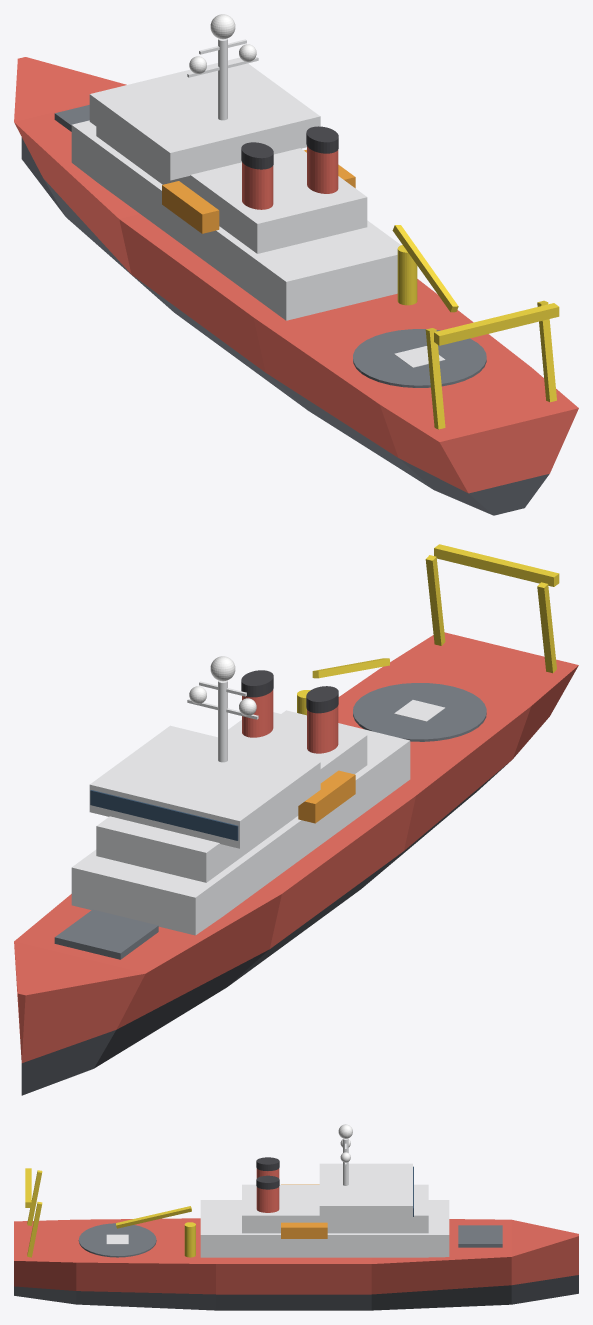
Rendered from polar_research_vessel.glb.
3 views of the same model, one above another, from view 1: azimuth 30°, elevation 25°; view 2: azimuth 150°, elevation 25°; view 3: azimuth 270°, elevation 25° (orthographic). The views are drawn at different scales.
Visible parts, largest first — view 1: Hull_Upper, Cube, Cube.002, Cube.001, Hull_Lower, Cylinder.006, Cube.010, Cube.006, Cylinder, Cylinder.002, Cube.008, Cube.011 (+5 smaller); view 2: Hull_Upper, Cube, Cube.002, Cube.001, Hull_Lower, Cylinder.006, Cube.013, Cube.003, Cube.010, Cube.006, Cylinder, Cylinder.002 (+6 smaller); view 3: Hull_Upper, Hull_Lower, Cube, Cube.002, Cube.001, Cylinder.006, Cube.013, Cube.007, Cylinder.002, Cube.011, Cylinder.005, Cube.009 (+4 smaller).
Boxes of the visible parts, x1,y1,x2,y2 form: Hull_Upper: (14, 57, 578, 493); Cube: (71, 120, 400, 320); Cube.002: (89, 57, 320, 180); Cube.001: (96, 127, 367, 253); Hull_Lower: (21, 137, 549, 515); Cylinder.006: (353, 329, 486, 387); Cube.010: (434, 303, 559, 345); Cube.006: (162, 181, 219, 233); Cylinder: (242, 162, 273, 209); Cylinder.002: (307, 146, 338, 193); Cube.008: (425, 328, 445, 429); Cube.011: (392, 225, 458, 312); Hull_Upper: (14, 632, 578, 1062); Cube: (71, 710, 410, 935); Cube.002: (89, 725, 320, 848); Cube.001: (96, 712, 367, 882); Hull_Lower: (21, 761, 510, 1095); Cylinder.006: (353, 683, 486, 741); Cube.013: (54, 909, 158, 959); Cube.003: (90, 790, 238, 840); Cube.010: (434, 544, 559, 586); Cube.006: (298, 770, 355, 823); Cylinder: (307, 706, 338, 753); Cylinder.002: (242, 690, 273, 737); Hull_Upper: (14, 1218, 578, 1294); Hull_Lower: (14, 1275, 578, 1310); Cube: (200, 1200, 449, 1257); Cube.002: (319, 1163, 412, 1221); Cube.001: (242, 1184, 428, 1233); Cylinder.006: (78, 1223, 156, 1257); Cube.013: (458, 1225, 502, 1247); Cube.007: (281, 1222, 327, 1238); Cylinder.002: (256, 1187, 279, 1212); Cube.011: (116, 1206, 191, 1228); Cylinder.005: (184, 1222, 195, 1257); Cube.009: (27, 1202, 42, 1257).
Size of the model in its own units: 21 by 37.9 by 109.
